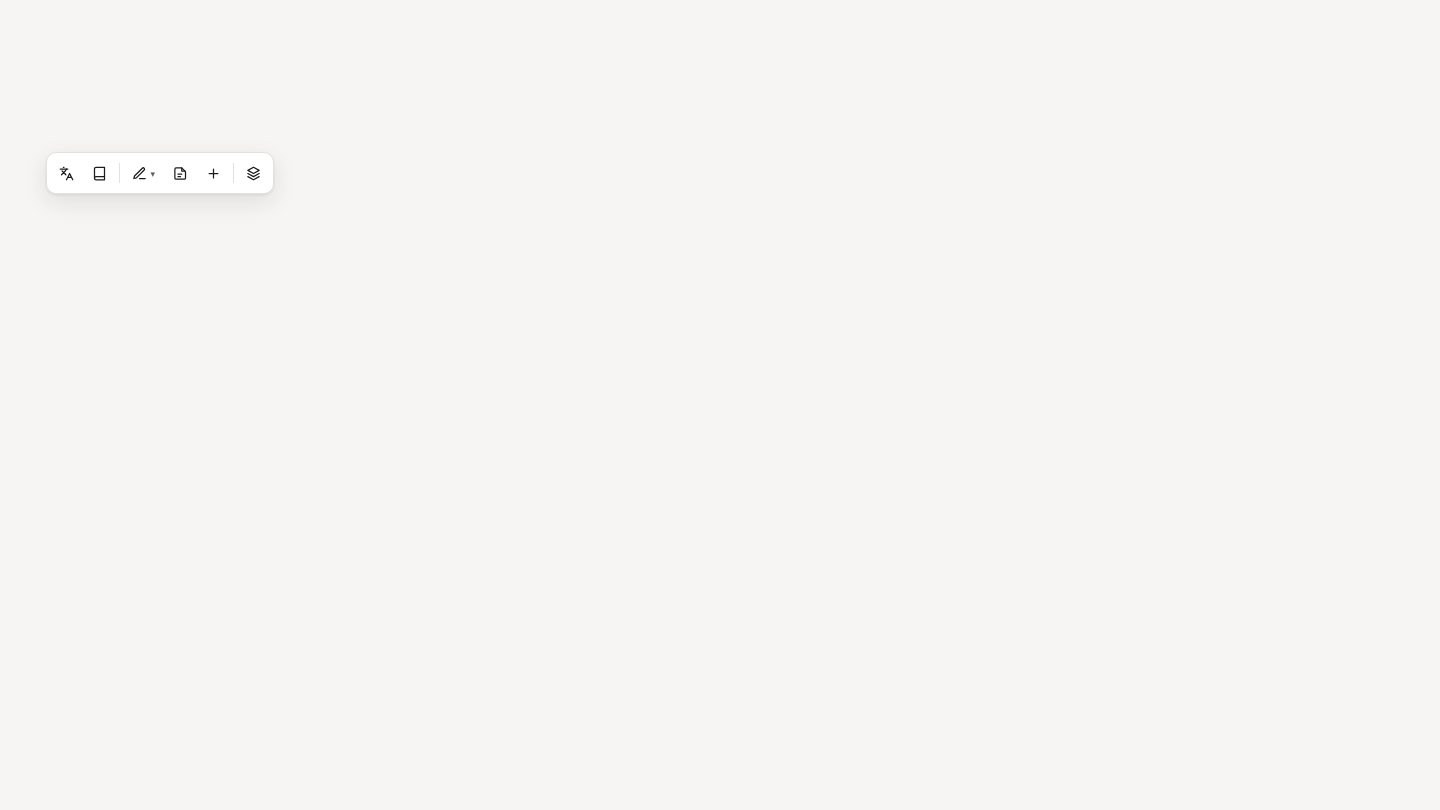
Scenario: SelectionToolbar note modal › Cancel closes the modal without saving
The image size is (1440, 810).
Click the button named "Note" at (180, 173), box [165, 157, 196, 189]
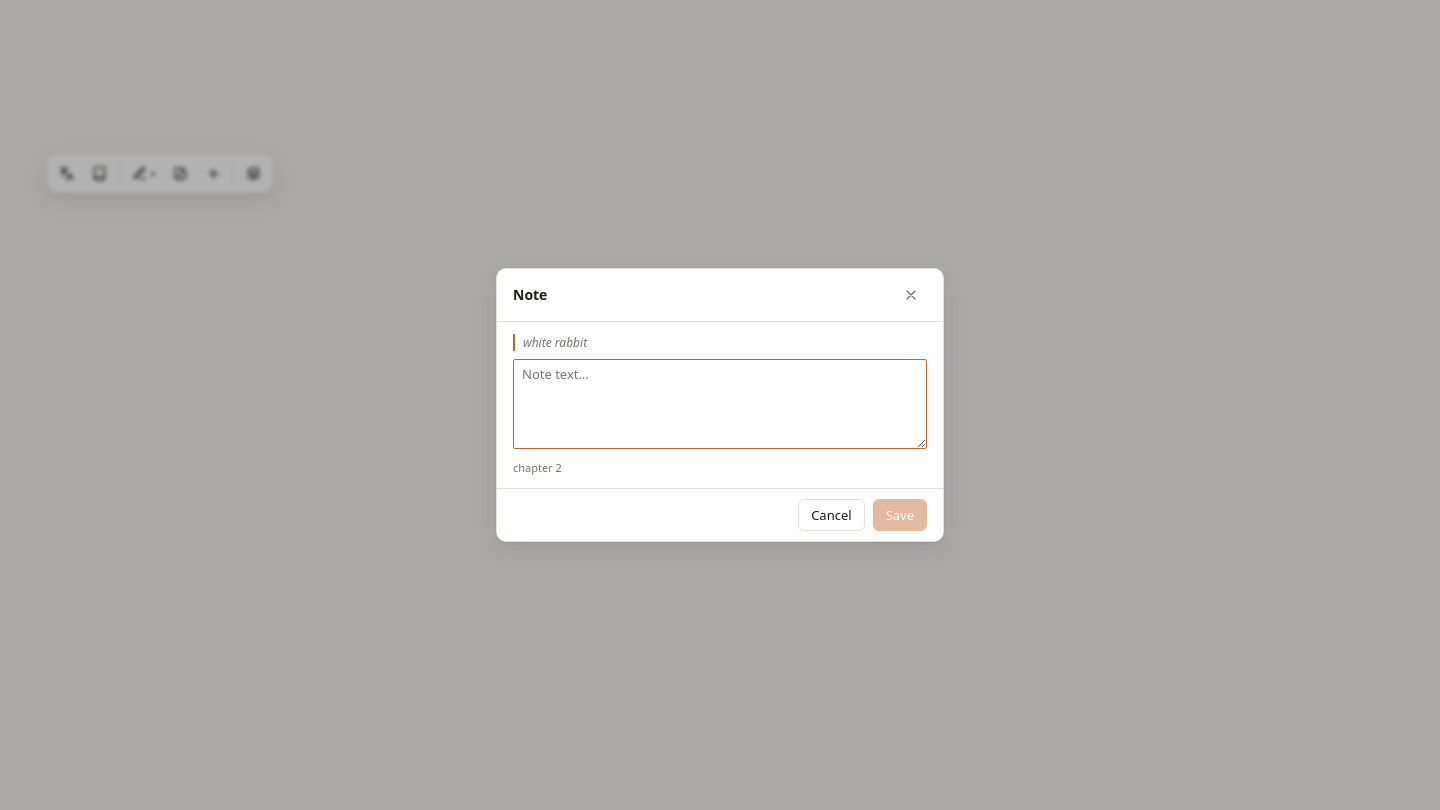
Type "черновик" into the text box with test id "note-text" at (720, 404), box [513, 359, 927, 449]
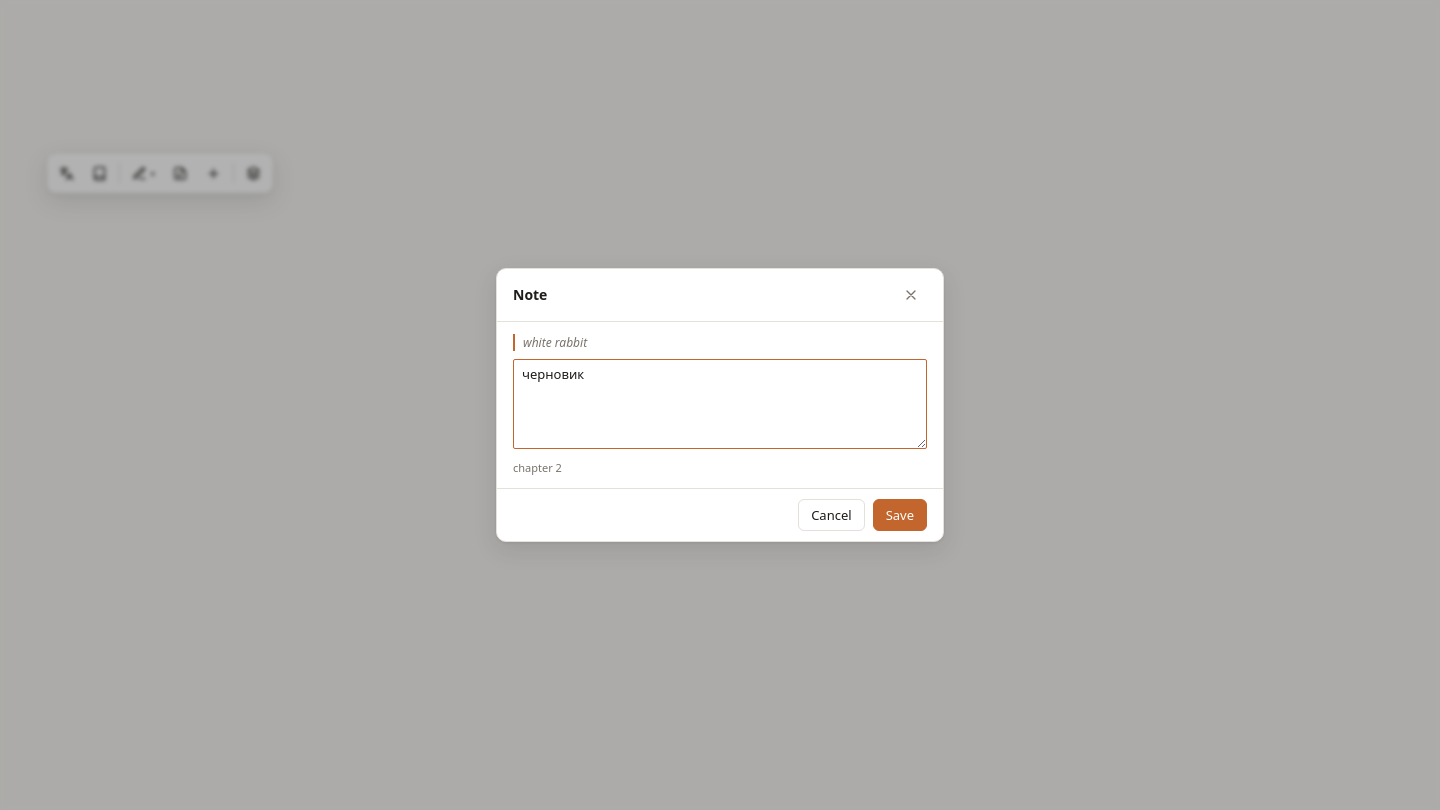
Click the button "Cancel" at (831, 515), box [798, 499, 865, 531]
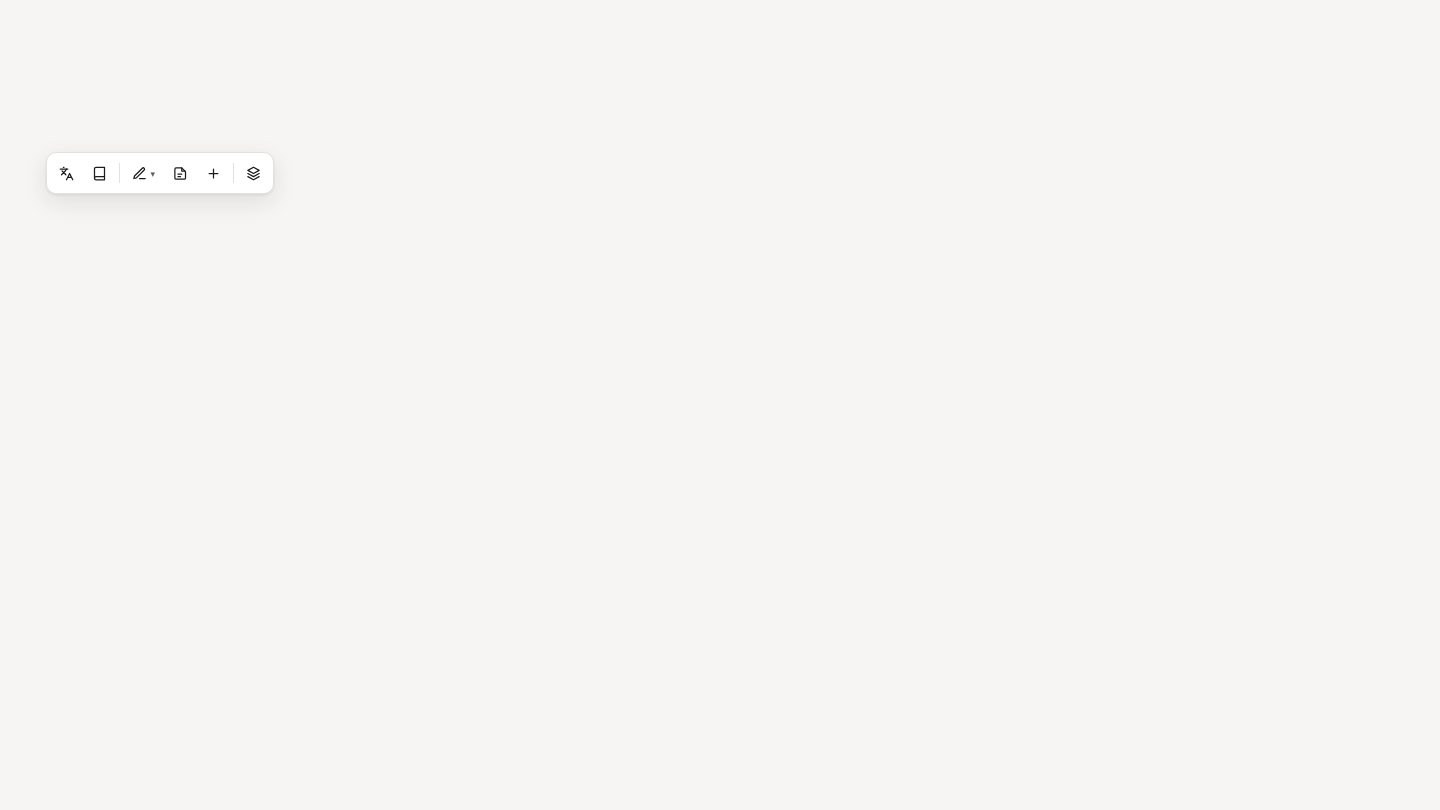
Now the heading "Note" is gone
